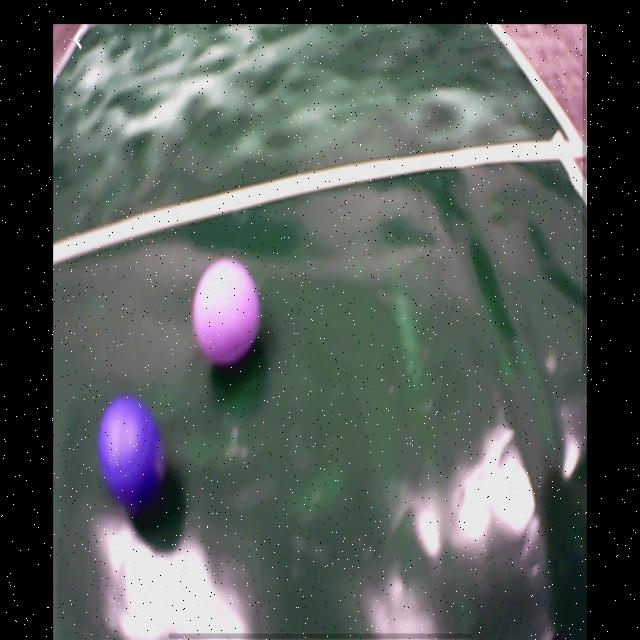ball: (99, 396, 170, 510), (193, 258, 264, 371)
